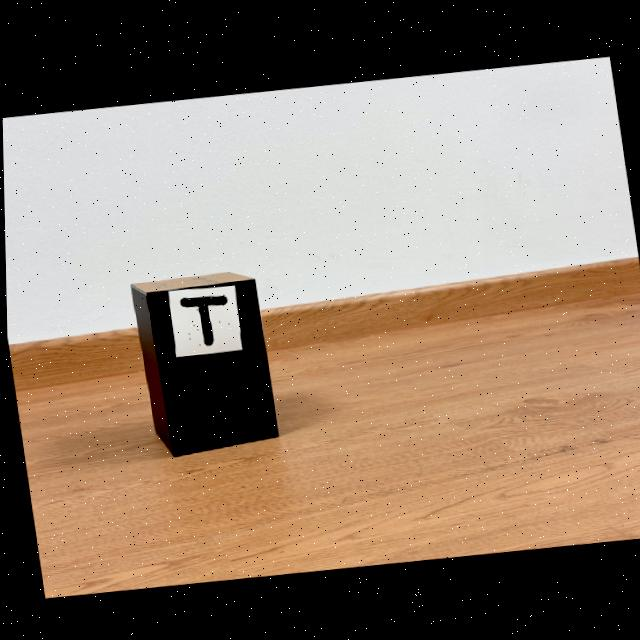T: (178, 294, 226, 344)
